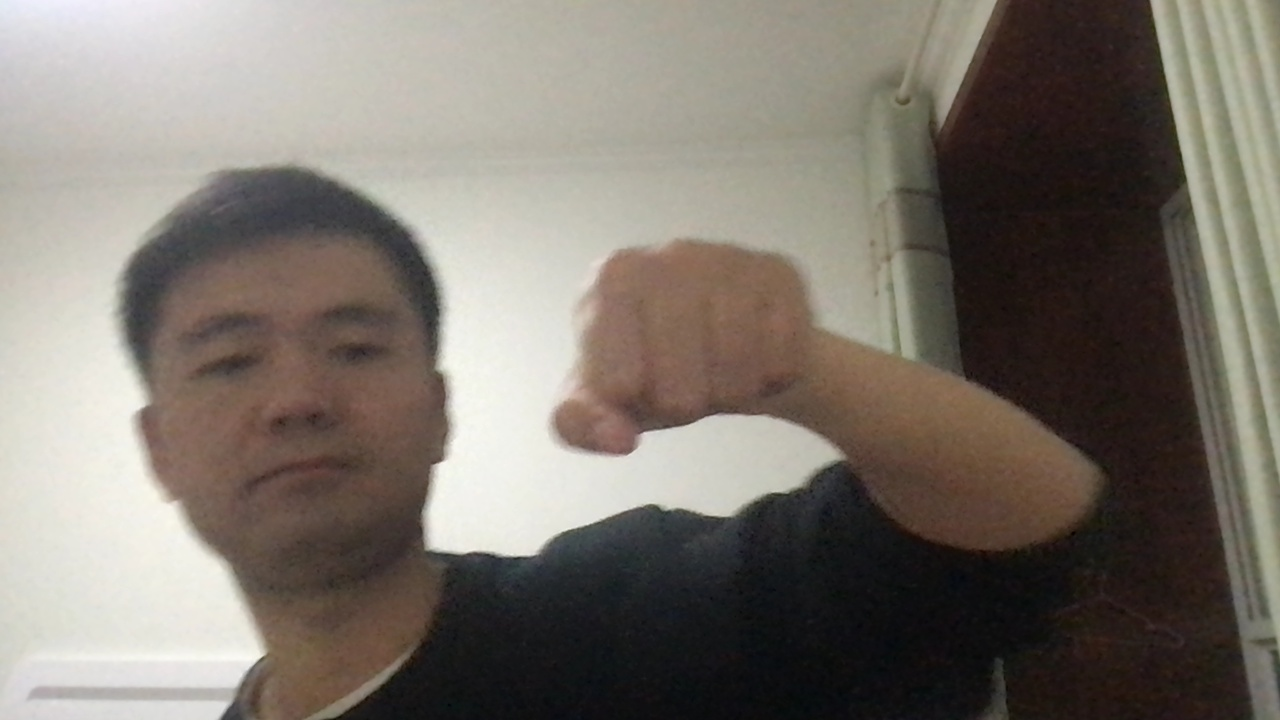ok: (540, 234, 835, 467)
